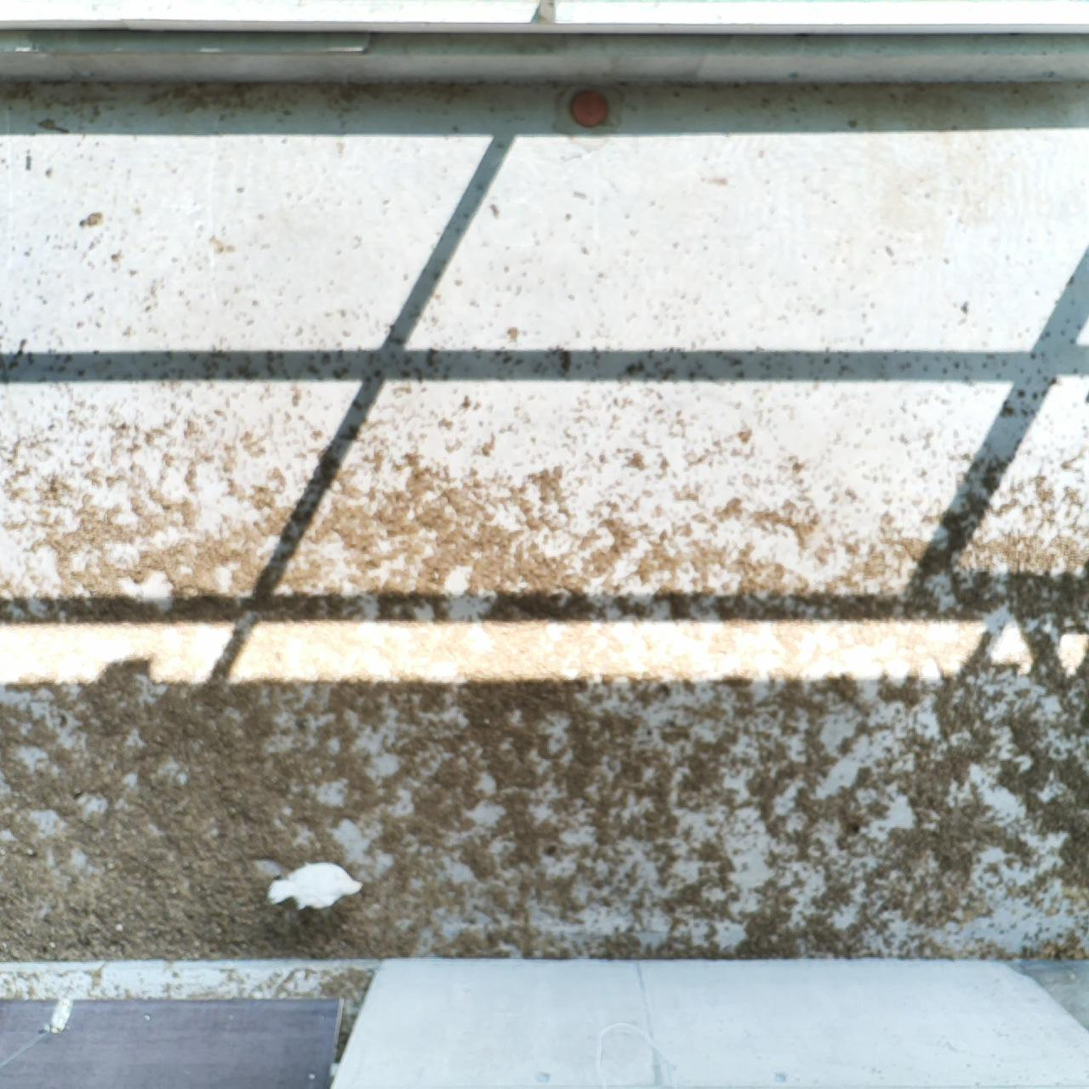chicken: (262, 857, 366, 917)
